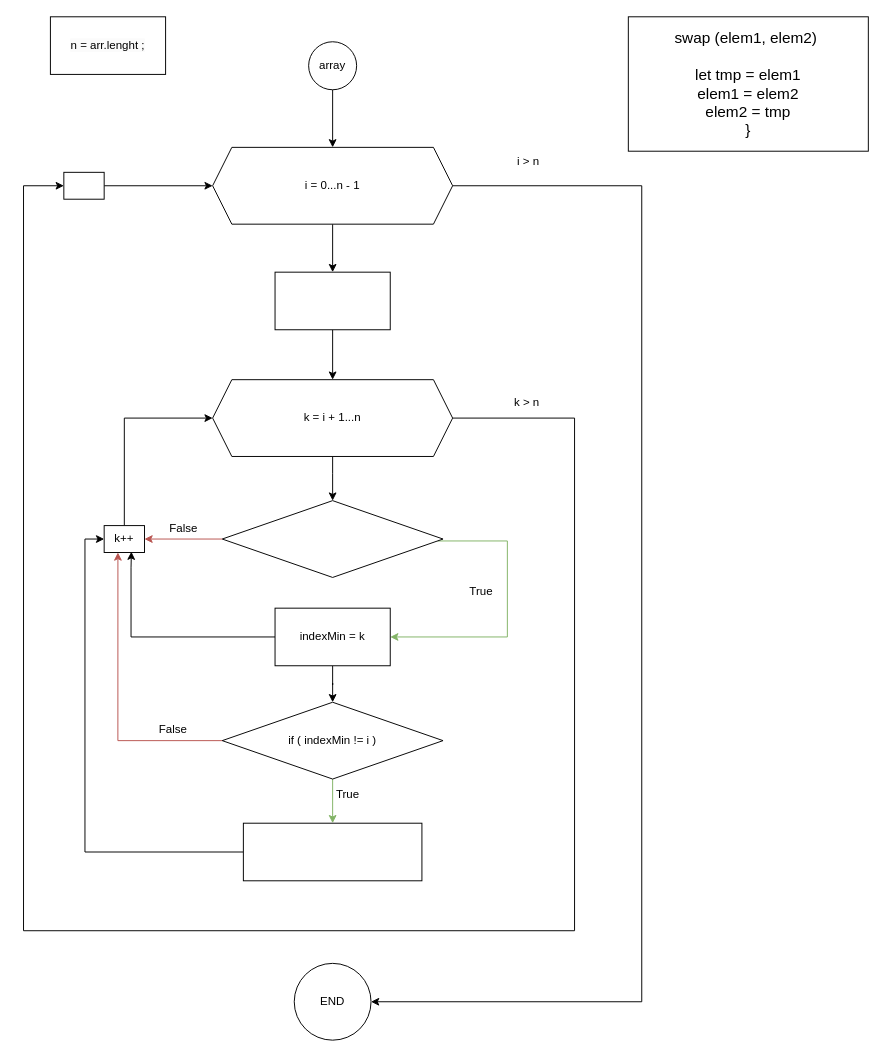
This 885x1057 diagram has some shape labels left out. The centre of each missing label's shape, as x and y in pixels:
"i++" goes at [83,185].
"if( arr [ indexMin ] > arr [ k ]" goes at [332,538].
"let indexMin = i" goes at [332,300].
"swap( arr [indexMin ], arr [ i ] );" goes at [332,851].
